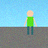person: (24, 10, 37, 34)
